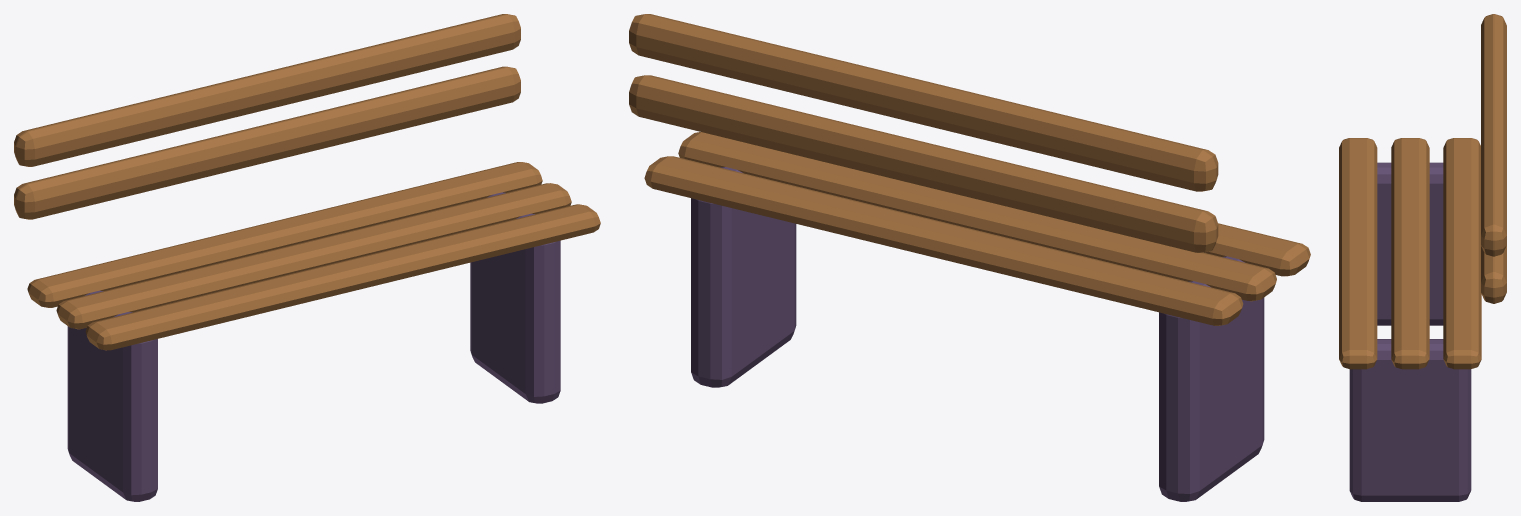
The model's file is Bench.glb.
3 renders of one model, left to right at view 1: azimuth 30°, elevation 25°; view 2: azimuth 150°, elevation 25°; view 3: azimuth 270°, elevation 25°, orthographic. The views are drawn at different scales.
Parts seen in each view (by area): view 1: Back, Back.001, Seat, Seat.001, Seat.002, Leg, Leg.001; view 2: Back.001, Back, Seat.002, Seat.001, Leg, Leg.001, Seat; view 3: Leg.001, Seat.001, Seat, Seat.002, Back.001, Leg, Back.
Boxes of the visible parts, bbox=[...] form: Back: bbox=[14, 66, 520, 219]; Back.001: bbox=[14, 14, 520, 166]; Seat: bbox=[85, 204, 600, 350]; Seat.001: bbox=[56, 183, 571, 329]; Seat.002: bbox=[27, 162, 542, 307]; Leg: bbox=[67, 290, 157, 501]; Leg.001: bbox=[470, 192, 560, 403]; Back.001: bbox=[629, 14, 1218, 191]; Back: bbox=[629, 75, 1218, 252]; Seat.002: bbox=[644, 156, 1243, 325]; Seat.001: bbox=[678, 132, 1276, 301]; Leg: bbox=[1159, 256, 1264, 501]; Leg.001: bbox=[691, 167, 796, 387]; Seat: bbox=[1204, 223, 1310, 276]; Leg.001: bbox=[1349, 339, 1471, 501]; Seat.001: bbox=[1391, 138, 1429, 369]; Seat: bbox=[1339, 138, 1377, 369]; Seat.002: bbox=[1443, 138, 1481, 369]; Back.001: bbox=[1481, 14, 1506, 256]; Leg: bbox=[1377, 162, 1443, 325]; Back: bbox=[1481, 245, 1506, 303].
Size of the model in its own units: 3 by 1.85 by 0.965.
